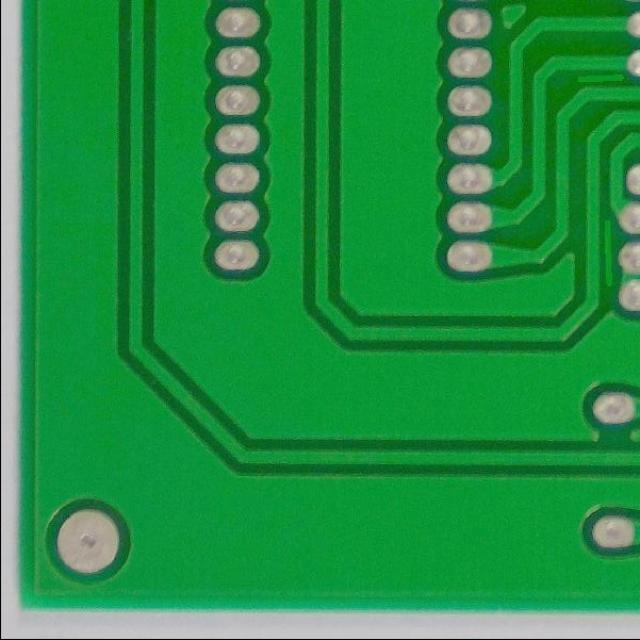spurious_copper: (590, 209, 625, 293), (570, 67, 634, 93)
